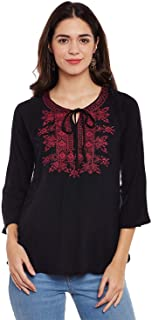tops: (1, 80, 152, 283)
